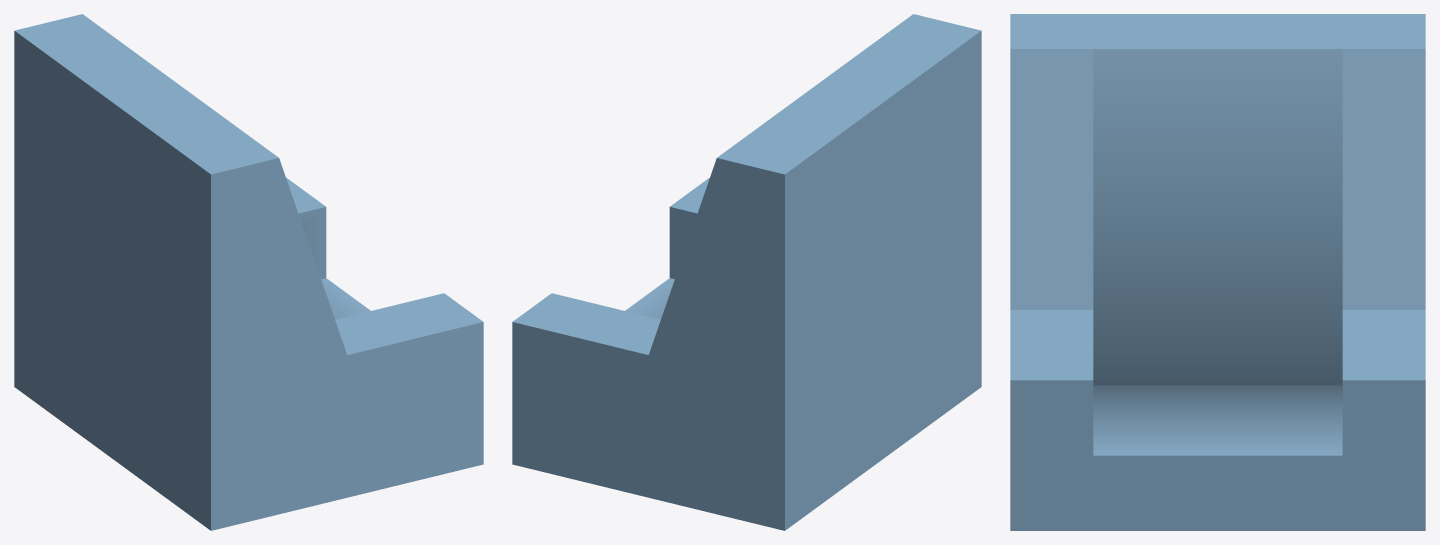
The model's file is chair.glb.
The picture shows the model from 3 angles, left to right: view 1: azimuth 30°, elevation 25°; view 2: azimuth 150°, elevation 25°; view 3: azimuth 270°, elevation 25°; orthographic projection. The views are drawn at different scales.
Parts seen in each view (by area): view 1: chair; view 2: chair; view 3: chair.
Boxes of the visible parts, box(x1,y1,x2,y2) form: chair: box(14, 14, 483, 530); chair: box(512, 14, 981, 530); chair: box(1010, 14, 1425, 530).
Bounding box in the file's own units: 0.8 × 1 × 1.
